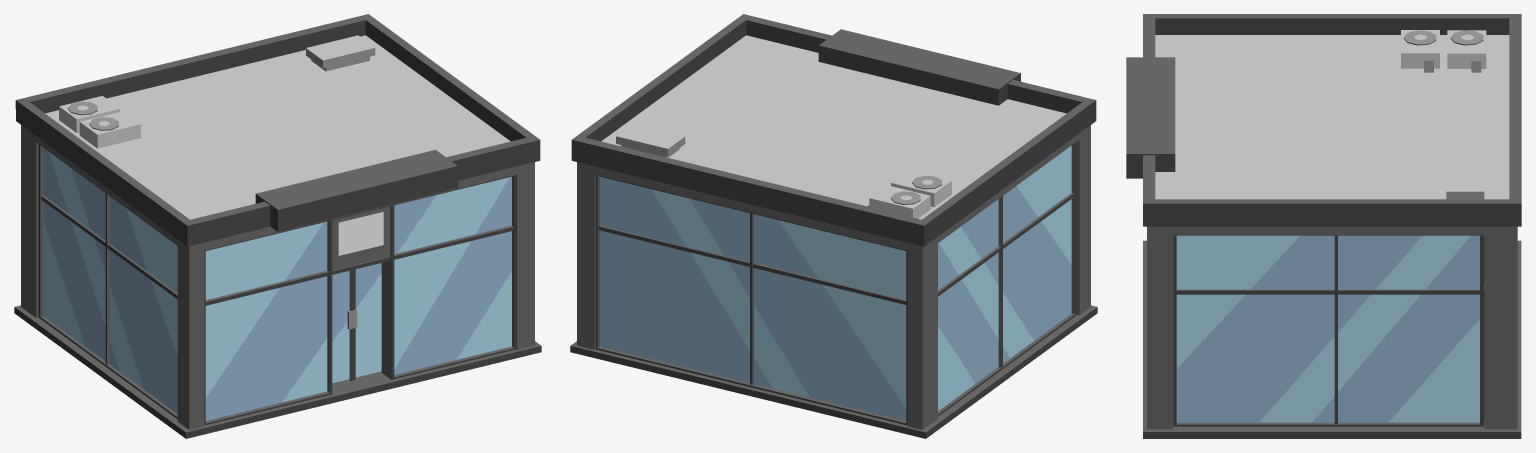
File: supermarket_004.fbx
The picture shows the model from 3 angles, left to right: view 1: azimuth 30°, elevation 25°; view 2: azimuth 150°, elevation 25°; view 3: azimuth 270°, elevation 25°; orthographic projection. The views are drawn at different scales.
Parts seen in each view (by area): view 1: supermarket_004; view 2: supermarket_004; view 3: supermarket_004.
Part boxes in pixels (x1,y1,x2,y2): supermarket_004: (14, 14, 541, 438); supermarket_004: (570, 14, 1097, 438); supermarket_004: (1126, 14, 1521, 438).
Bounding box in the file's own units: 682 × 393 × 596.
